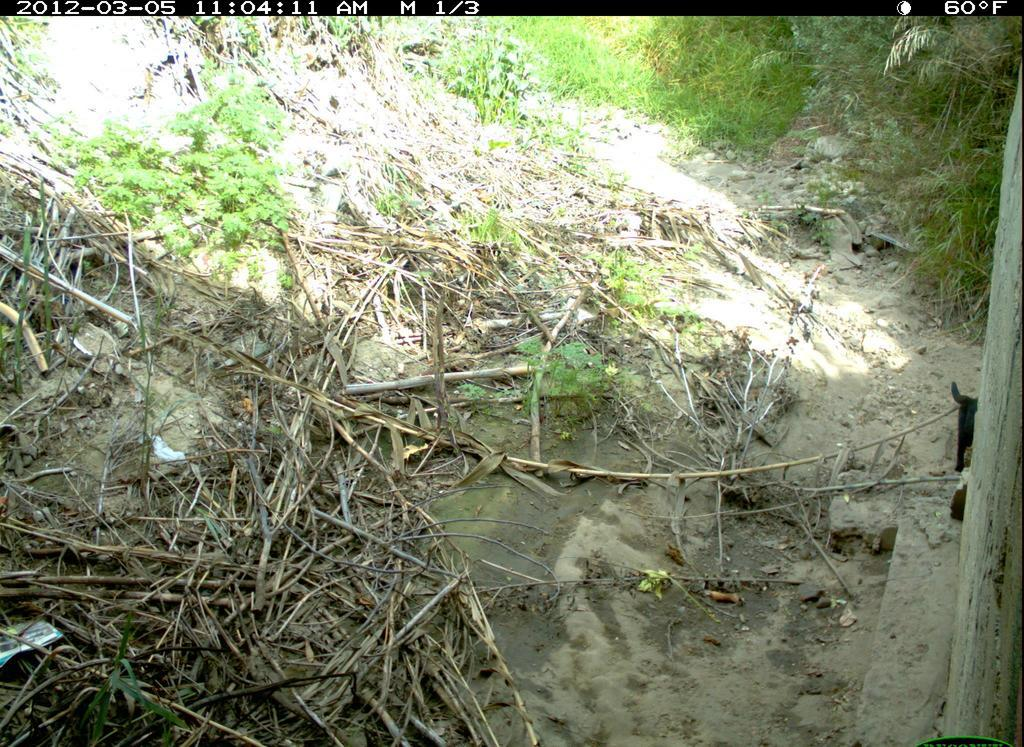cat: (948, 380, 992, 477)
